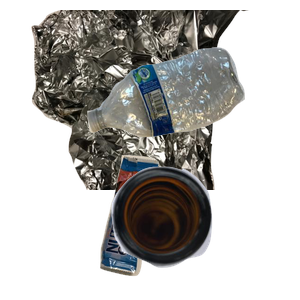glass: (109, 164, 300, 300)
metal: (29, 10, 269, 190)
plastic: (85, 45, 300, 175)
trash: (97, 152, 248, 300)
